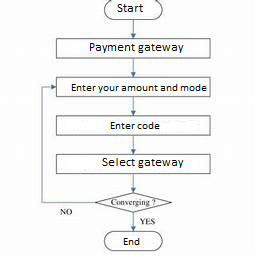arrow: (39, 83, 98, 204), (129, 94, 137, 116), (129, 210, 137, 232), (130, 172, 137, 194), (130, 136, 138, 155), (130, 58, 137, 77), (130, 18, 136, 37)
decision: (94, 191, 174, 214)
process: (54, 36, 213, 61), (54, 113, 213, 137), (54, 75, 213, 98), (54, 152, 213, 175)
terminator: (102, 229, 163, 252), (102, 1, 164, 22)
text: (70, 82, 207, 92), (88, 41, 185, 54), (100, 156, 185, 168), (109, 120, 161, 130), (110, 197, 157, 207), (117, 2, 144, 13), (122, 236, 141, 246), (138, 216, 156, 226), (59, 207, 73, 216)
